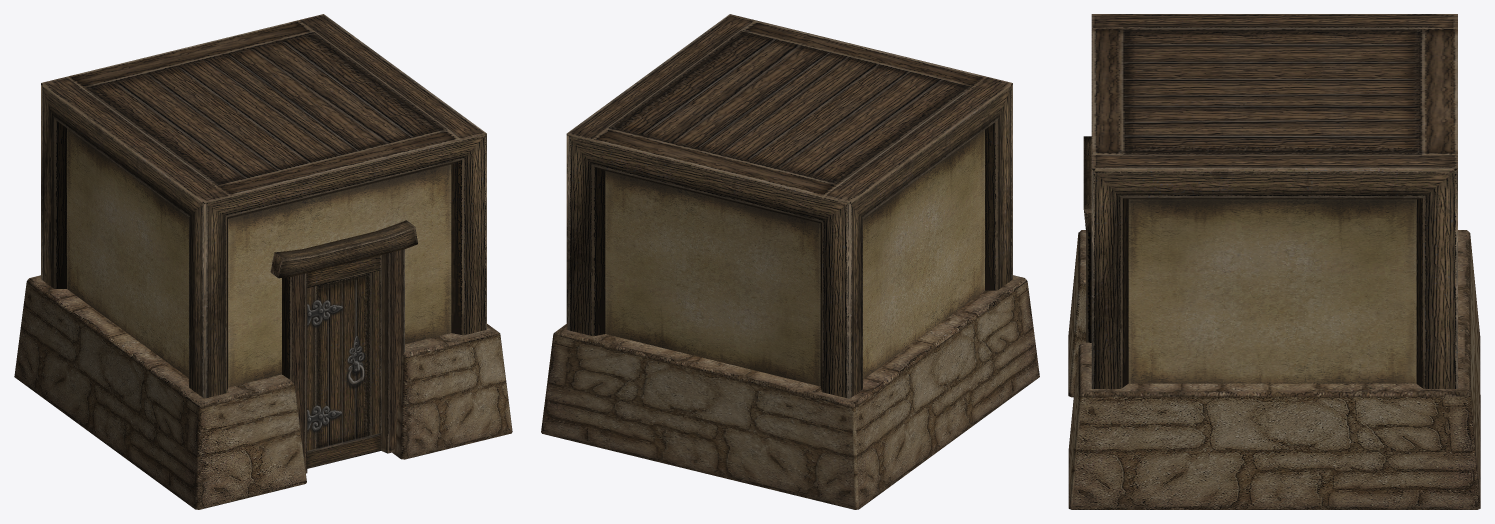
File: House_4X4_01a.fbx
The picture shows the model from 3 angles, left to right: view 1: azimuth 30°, elevation 25°; view 2: azimuth 150°, elevation 25°; view 3: azimuth 270°, elevation 25°; orthographic projection. The views are drawn at different scales.
Visible parts, largest first — view 1: House_4X4_01a; view 2: House_4X4_01a; view 3: House_4X4_01a.
Boxes of the visible parts, <box> form: House_4X4_01a: <box>14,14,512,509</box>; House_4X4_01a: <box>541,14,1039,509</box>; House_4X4_01a: <box>1068,14,1480,509</box>.
Size of the model in its own units: 4.49 by 4 by 4.5.
